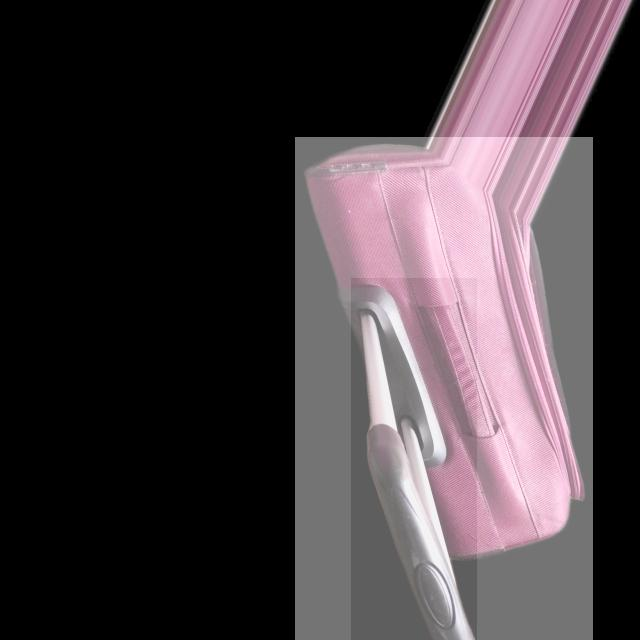Bag: (294, 136, 595, 640)
Handle: (339, 300, 477, 640)
